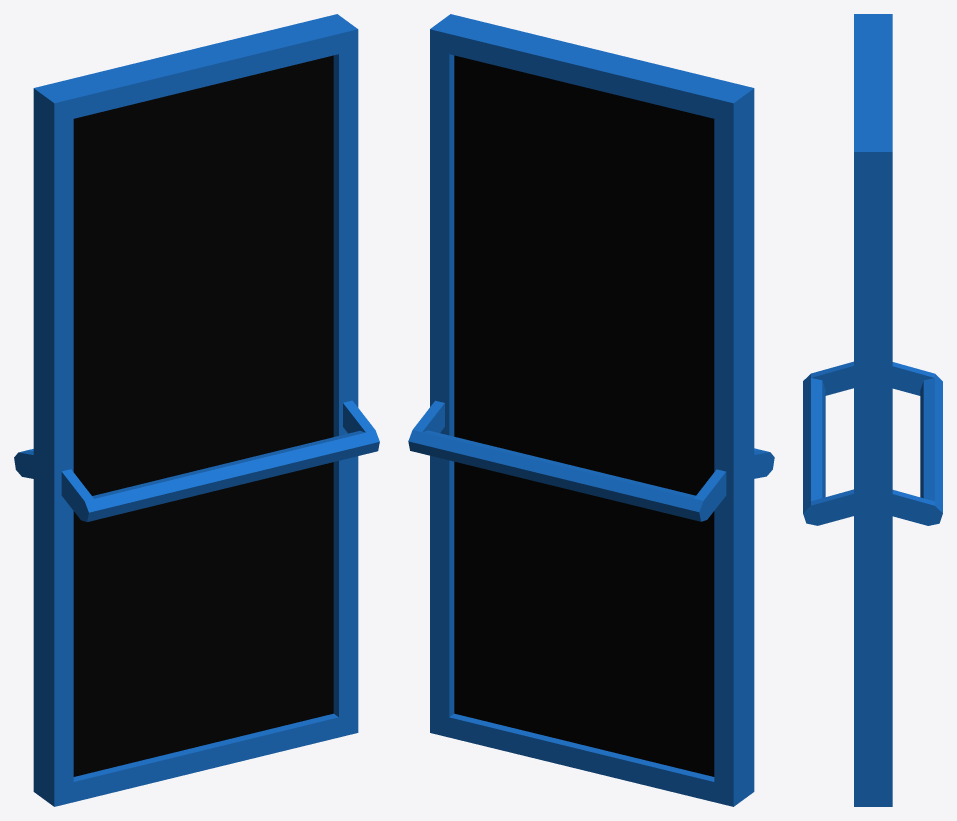
File: SM_door_1.fbx
3 views of the same model, side by side, from view 1: azimuth 30°, elevation 25°; view 2: azimuth 150°, elevation 25°; view 3: azimuth 270°, elevation 25° (orthographic). The views are drawn at different scales.
Visible parts, largest first — view 1: Cube_133; view 2: Cube_133; view 3: Cube_133.
Part boxes in pixels (<box>): Cube_133: <box>14,14,379,806</box>; Cube_133: <box>408,14,774,806</box>; Cube_133: <box>803,14,942,806</box>.
Size of the model in its own units: 102 by 225 by 43.57.
